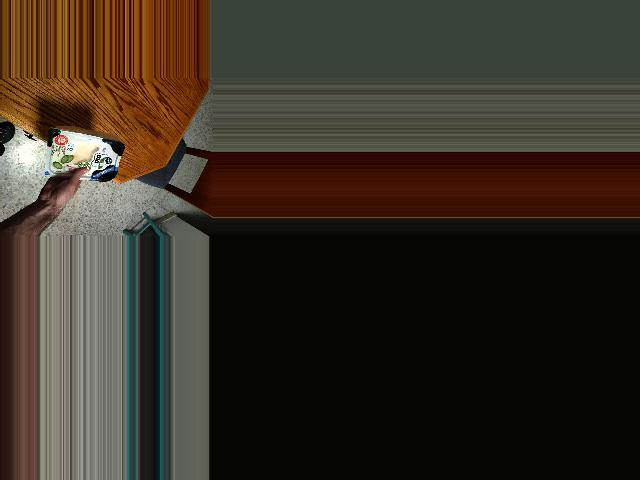cheese: (40, 136, 126, 185)
